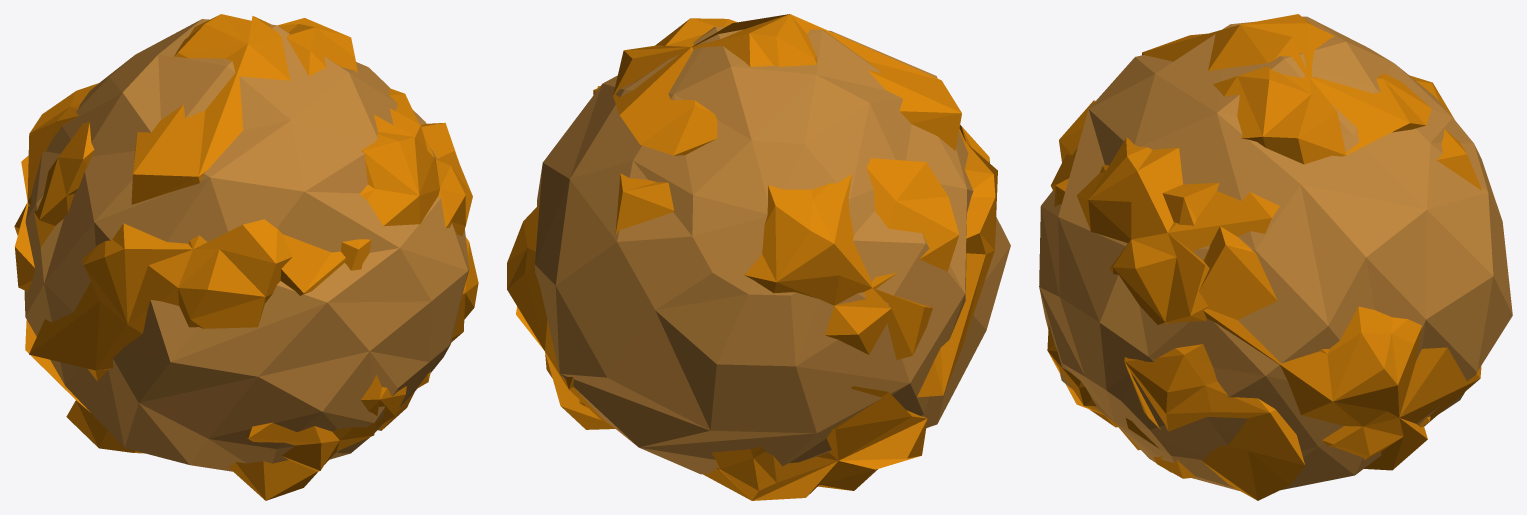
File: venus.gltf
3 views of the same model, side by side, from view 1: azimuth 30°, elevation 25°; view 2: azimuth 150°, elevation 25°; view 3: azimuth 270°, elevation 25° (orthographic). The views are drawn at different scales.
Parts seen in each view (by area): view 1: node_MeshObject-1631424384-PolyPaper13; view 2: node_MeshObject-1631424384-PolyPaper13; view 3: node_MeshObject-1631424384-PolyPaper13.
Part boxes in pixels (x1=…): node_MeshObject-1631424384-PolyPaper13: x1=14, y1=14, x2=478, y2=500; node_MeshObject-1631424384-PolyPaper13: x1=507, y1=14, x2=1010, y2=500; node_MeshObject-1631424384-PolyPaper13: x1=1039, y1=14, x2=1512, y2=500.
Size of the model in its own units: 0.2737 by 0.2856 by 0.2748.
